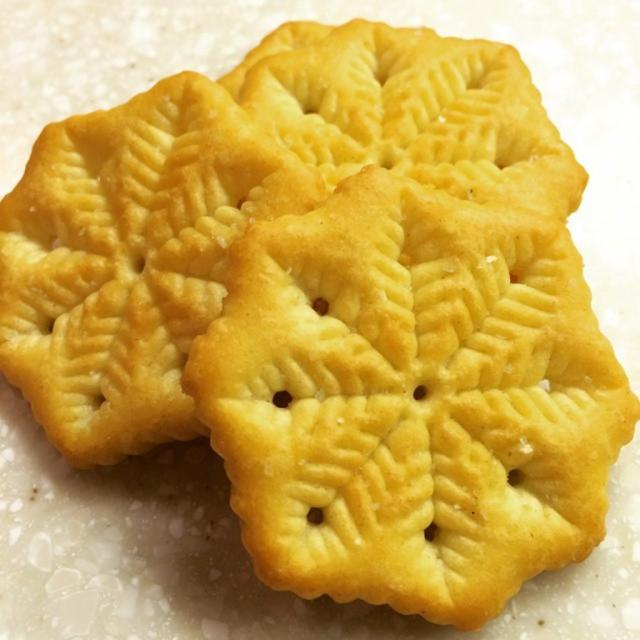Cookie: (0, 14, 639, 639)
